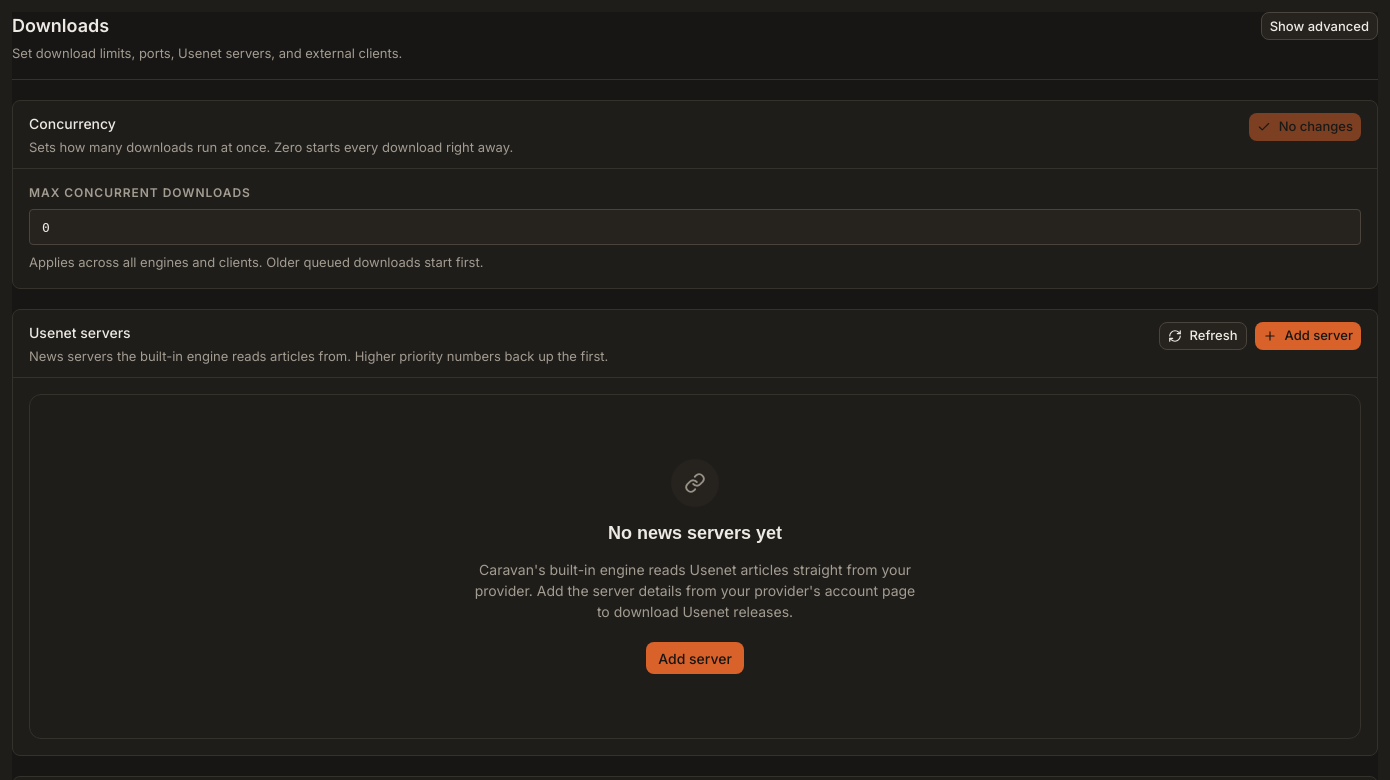
Scenario: Settings overview and route resolution › persists the advanced-settings preference and hides marked descendants by default
The image size is (1390, 780).
Click the button "Show advanced": (1319, 26) [1261,12,1378,40]
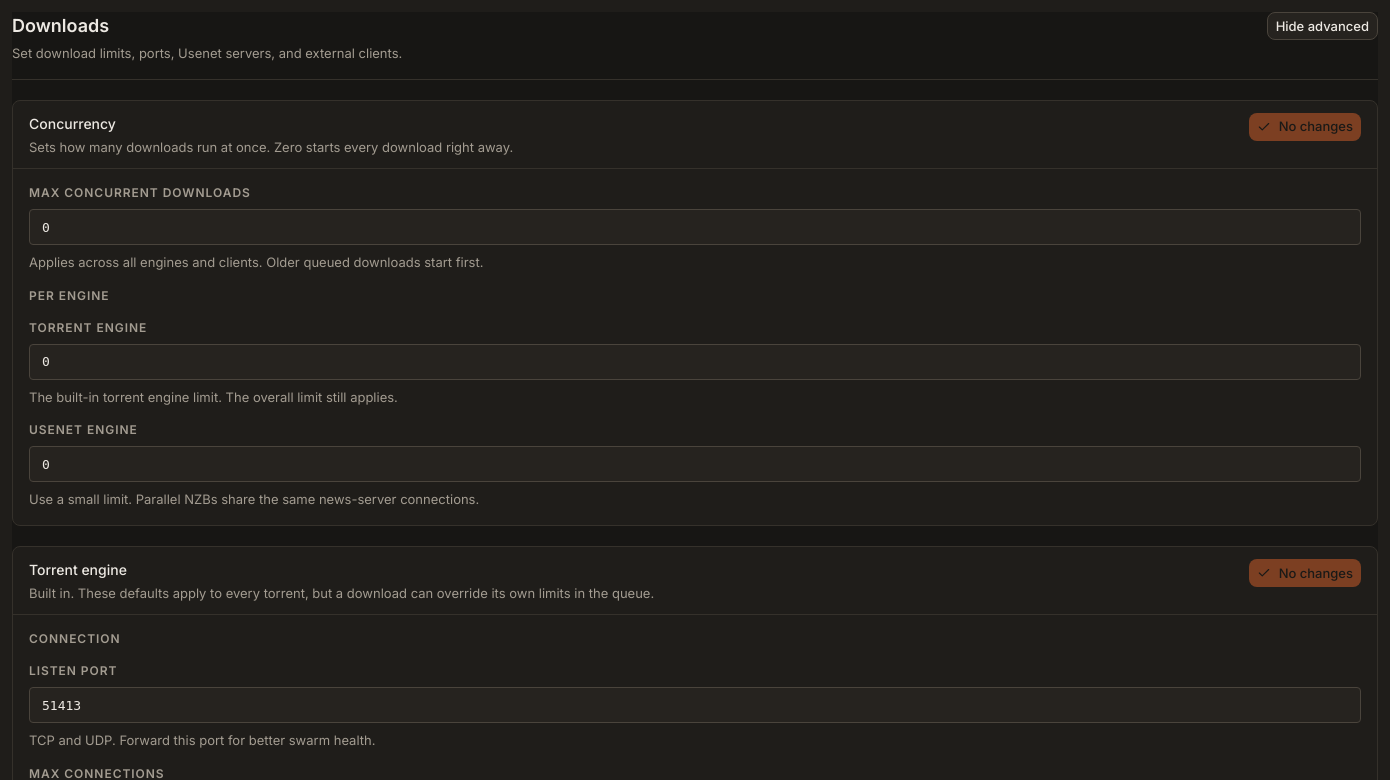
Check: the button "Hide advanced" is shown, box [1267,12,1378,40]
